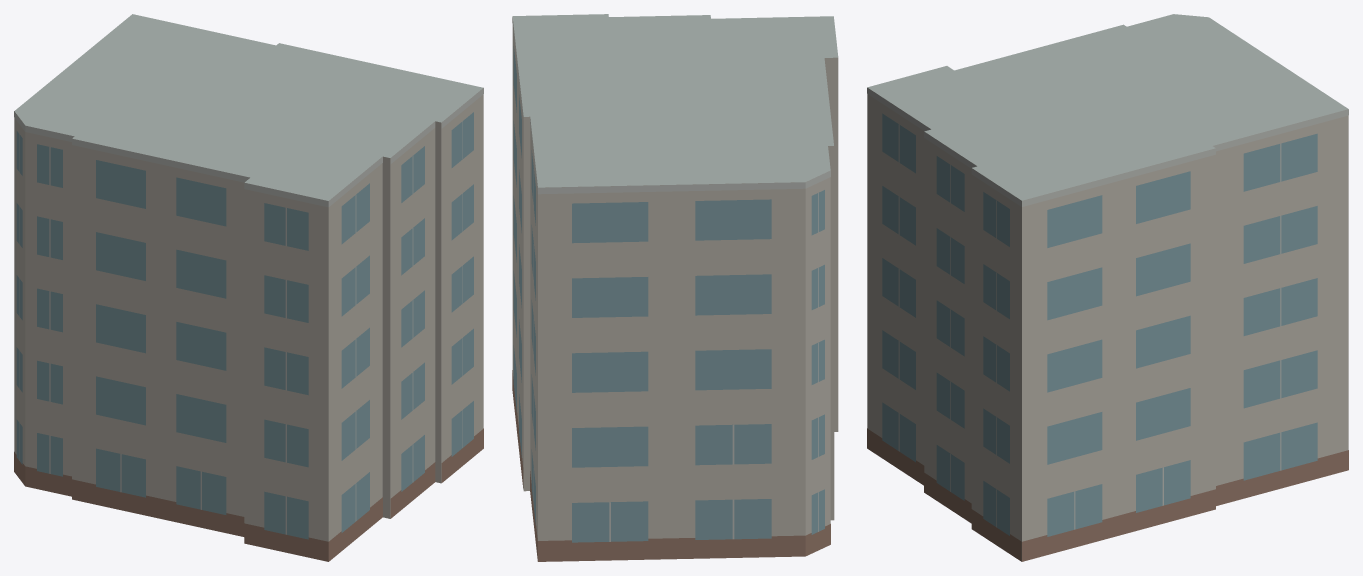
File: survey-upis-32868687.glb
3 renders of one model, left to right at view 1: azimuth 30°, elevation 25°; view 2: azimuth 150°, elevation 25°; view 3: azimuth 270°, elevation 25°, orthographic. The views are drawn at different scales.
Parts seen in each view (by area): view 1: survey-upis-32868687.tmp; view 2: survey-upis-32868687.tmp; view 3: survey-upis-32868687.tmp.
Boxes of the visible parts, left/top/right/bottom form: survey-upis-32868687.tmp: left=14, top=14, right=483, bottom=561; survey-upis-32868687.tmp: left=512, top=14, right=838, bottom=561; survey-upis-32868687.tmp: left=867, top=14, right=1348, bottom=561.
Size of the model in its own units: 15.32 by 13.8 by 16.69.
